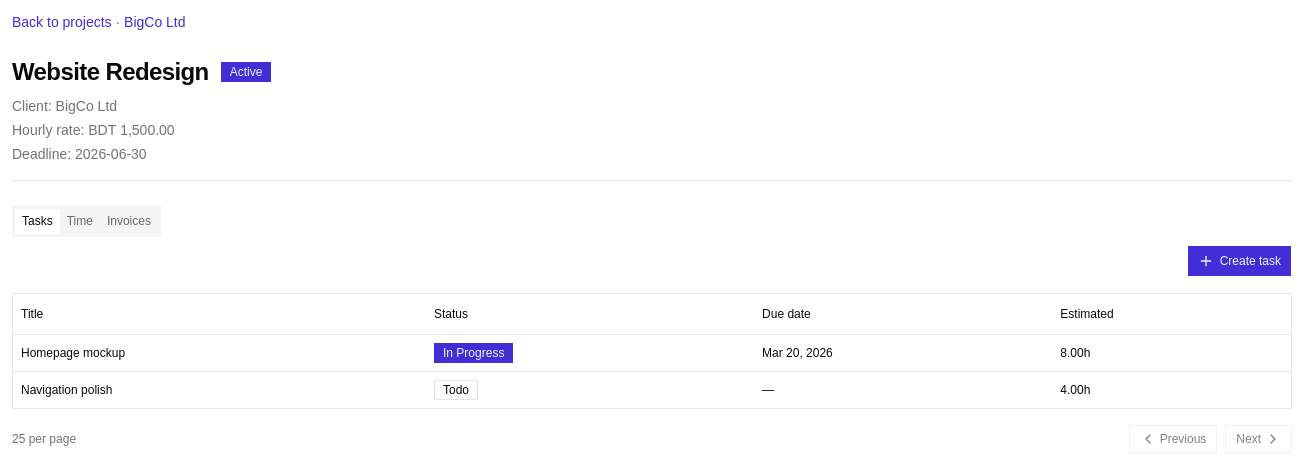
Scenario: ProjectDetailPage › shows time summary on the Time tab
Expected: the heading "Website Redesign" is shown, [12, 56, 209, 88]
Click the tab "Time".
click(80, 221)  # box [60, 208, 100, 234]
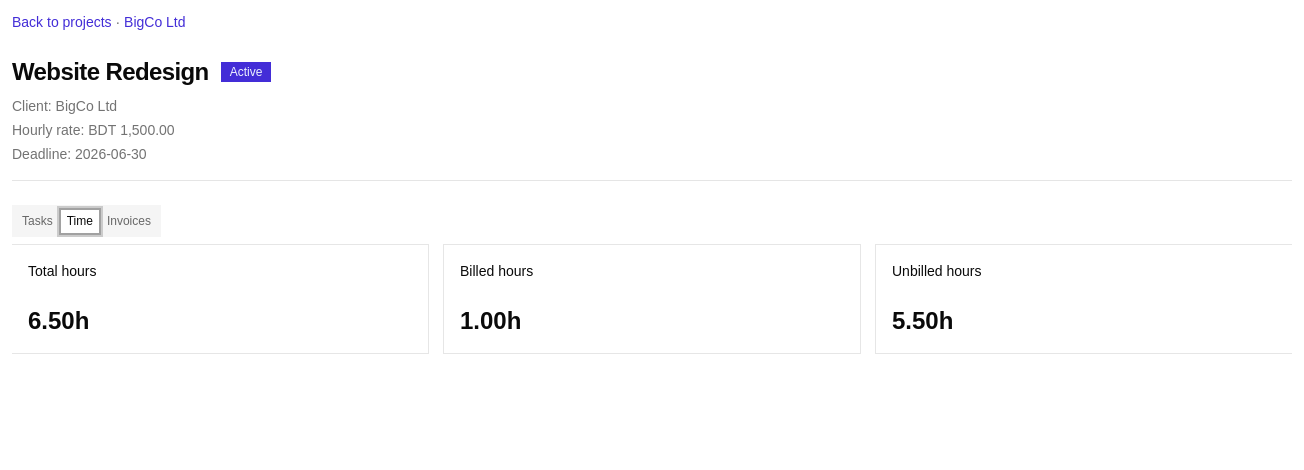
Result: the text "Total hours" is shown at [28, 263, 96, 279]
Result: the text "6.50h" is shown at [28, 307, 89, 334]
Result: the text "Unbilled hours" is shown at [892, 263, 982, 279]
